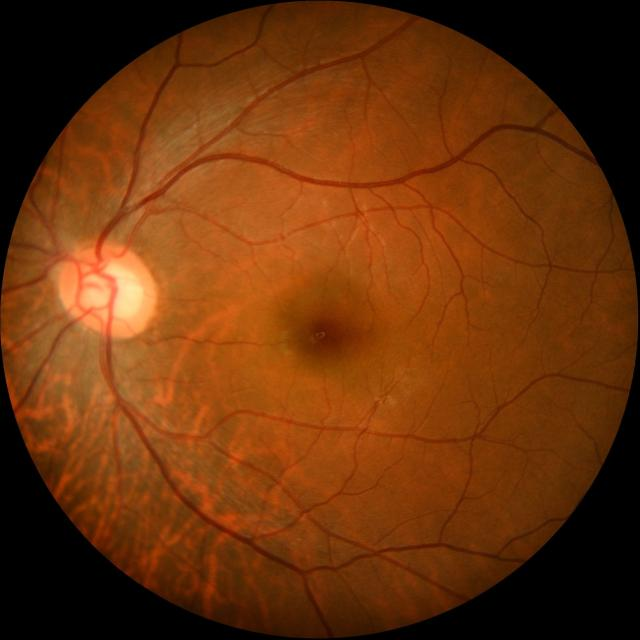OC: (83, 261, 139, 320)
OD: (62, 243, 152, 337)
